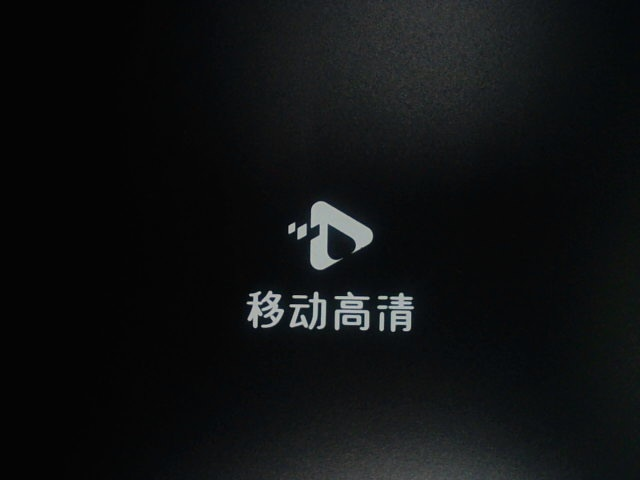AO_MobileHD: (215, 172, 425, 341)
